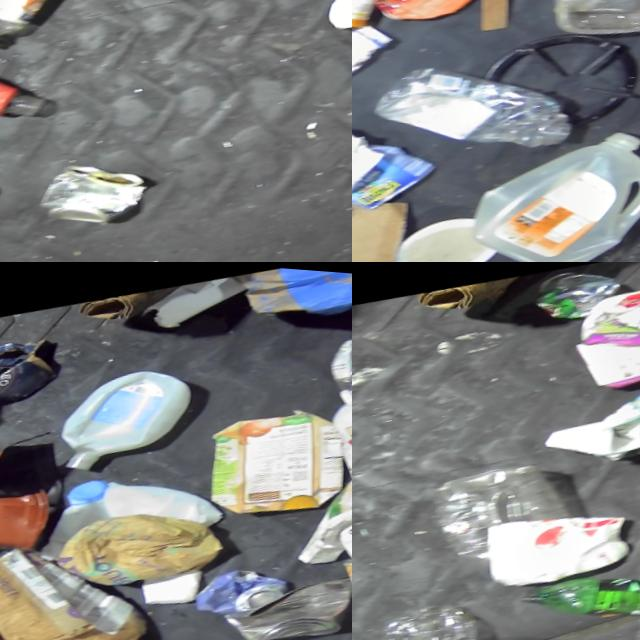can: (31, 143, 156, 238), (217, 560, 352, 640), (188, 550, 295, 622), (529, 262, 628, 326), (369, 0, 483, 26), (0, 159, 8, 248)
milk_jug: (453, 102, 640, 262), (40, 444, 227, 560), (46, 352, 204, 480), (531, 346, 640, 480), (560, 265, 640, 397)
non_white_jug: (192, 388, 352, 528)
plastic_bottle: (369, 24, 577, 177), (372, 587, 513, 640), (0, 0, 87, 54)
